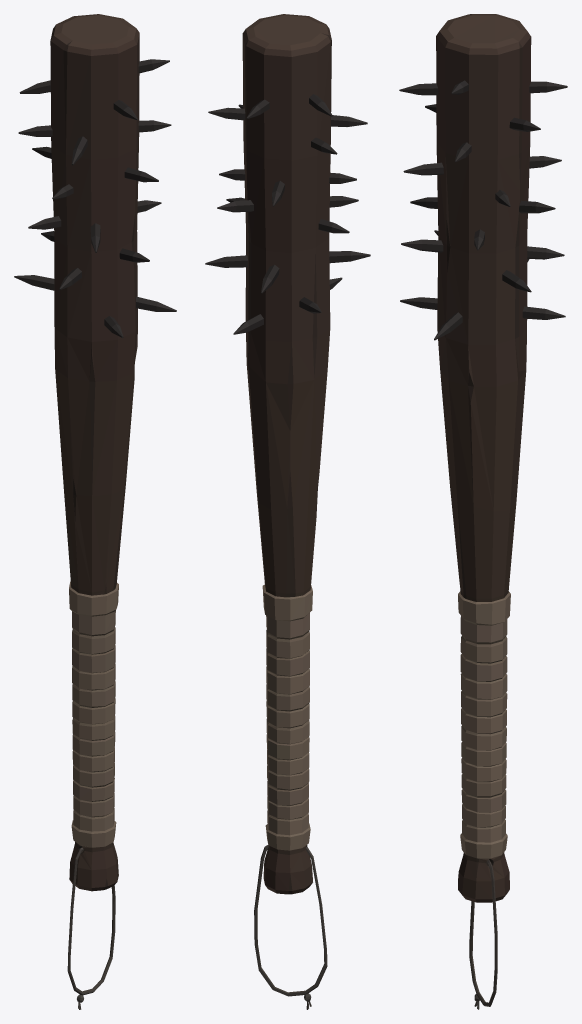
The model's file is bluntLightSpikedBat.glb.
The picture shows the model from 3 angles, left to right: view 1: azimuth 30°, elevation 25°; view 2: azimuth 150°, elevation 25°; view 3: azimuth 270°, elevation 25°; orthographic projection.
Visible parts, largest first — view 1: bluntLightSpikedBat; view 2: bluntLightSpikedBat; view 3: bluntLightSpikedBat.
Boxes of the visible parts, x1,y1,x2,y2 form: bluntLightSpikedBat: [14, 14, 176, 1009]; bluntLightSpikedBat: [205, 14, 370, 1009]; bluntLightSpikedBat: [399, 14, 567, 1009].
Bounding box in the file's own units: 0.1226 × 0.8949 × 0.1378.
